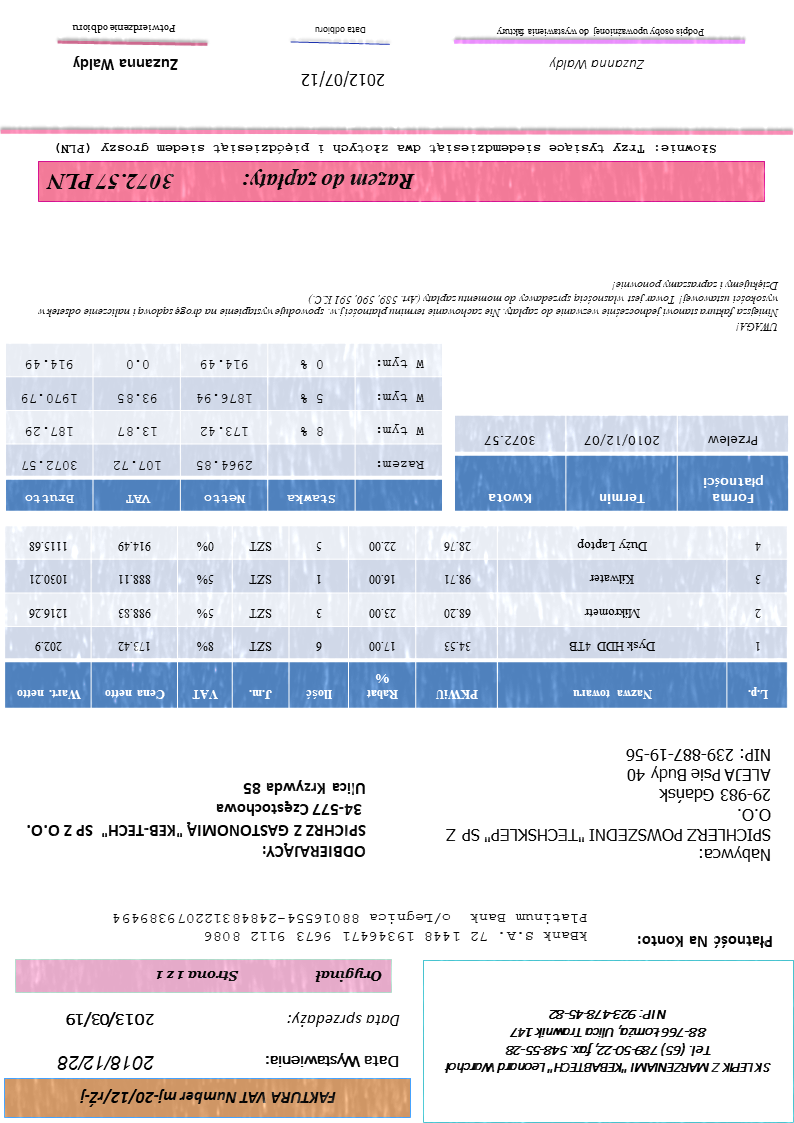Table: (2, 523, 790, 713), (3, 342, 445, 515), (453, 414, 790, 515)
TextBox: (33, 277, 781, 336), (443, 744, 774, 866), (24, 777, 371, 862), (440, 1004, 774, 1078), (109, 909, 592, 947), (53, 140, 720, 158), (43, 167, 419, 197), (153, 963, 385, 987), (76, 1087, 339, 1108), (493, 24, 708, 42), (262, 1049, 403, 1074), (283, 1009, 406, 1033), (633, 932, 776, 951), (55, 1049, 157, 1075), (69, 54, 183, 77), (70, 19, 178, 40), (546, 55, 650, 76), (299, 69, 391, 92), (63, 1009, 159, 1030), (312, 21, 370, 41)
